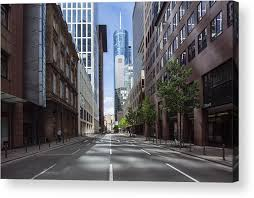strada: (37, 132, 197, 182)
